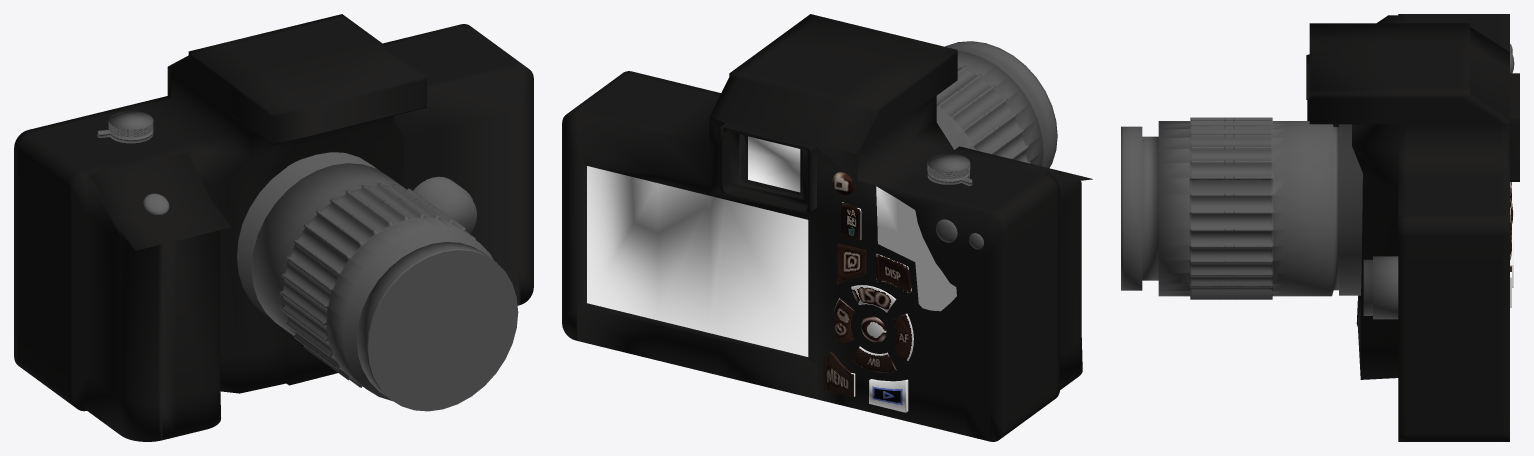
Rendered from camara V8.glb.
3 renders of one model, left to right at view 1: azimuth 30°, elevation 25°; view 2: azimuth 150°, elevation 25°; view 3: azimuth 270°, elevation 25°, orthographic. The views are drawn at different scales.
Parts seen in each view (by area): view 1: Cube, Circle, Cylinder.001, Cylinder.002; view 2: Cube, Circle, Torus.003, Cylinder.002, Plane.001, Plane, Plane.002, Plane.003, Plane.004; view 3: Cube, Circle, Cylinder.001.
Part boxes in pixels (x1,y1,x2,y2): Cube: (14,14,533,441); Circle: (237,152,518,411); Cylinder.001: (413,176,476,234); Cylinder.002: (97,111,153,143); Cube: (562,14,1092,441); Circle: (936,41,1057,168); Torus.003: (833,285,913,372); Cylinder.002: (927,154,972,186); Plane.001: (869,379,908,412); Plane: (823,351,855,397); Plane.002: (837,243,866,284); Plane.003: (876,253,911,293); Plane.004: (841,202,861,240); Cube: (1306,14,1519,441); Circle: (1121,117,1362,299); Cylinder.001: (1363,256,1398,319).
Size of the model in its own units: 3.17 by 1.98 by 2.51.
Materials: 17 (11 with a texture image).
